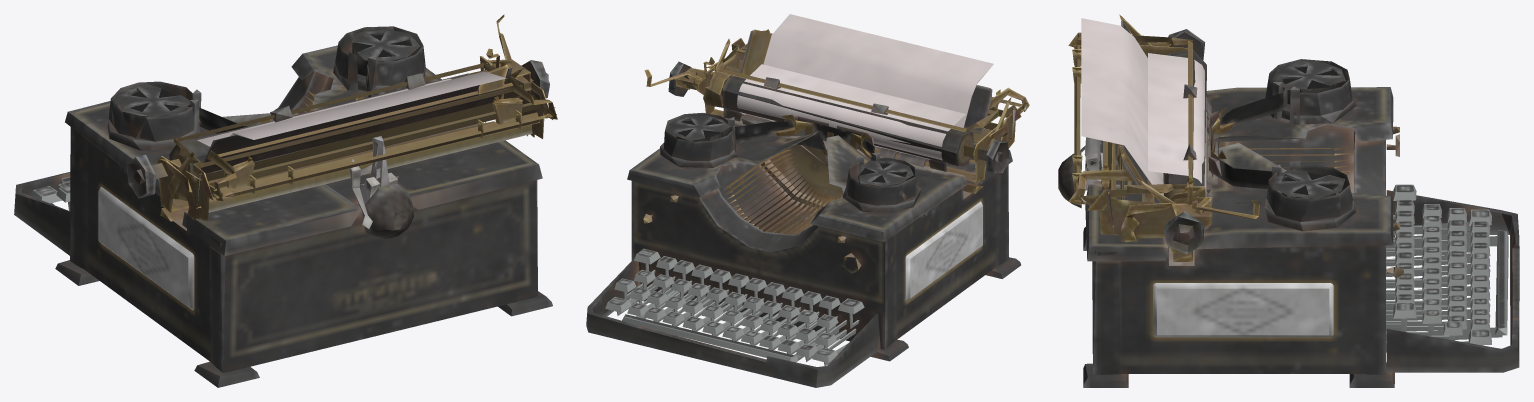
Rendered from typewriter.lod1.glb.
3 renders of one model, left to right at view 1: azimuth 30°, elevation 25°; view 2: azimuth 150°, elevation 25°; view 3: azimuth 270°, elevation 25°, orthographic. The views are drawn at different scales.
Visible parts, largest first — view 1: typewriter; view 2: typewriter; view 3: typewriter.
Part boxes in pixels (<box>): typewriter: <box>14,14,557,387</box>; typewriter: <box>586,14,1029,387</box>; typewriter: <box>1058,14,1519,387</box>.
Bounding box in the file's own units: 0.4546 × 0.2545 × 0.4631.
2 materials, 2 textured.
